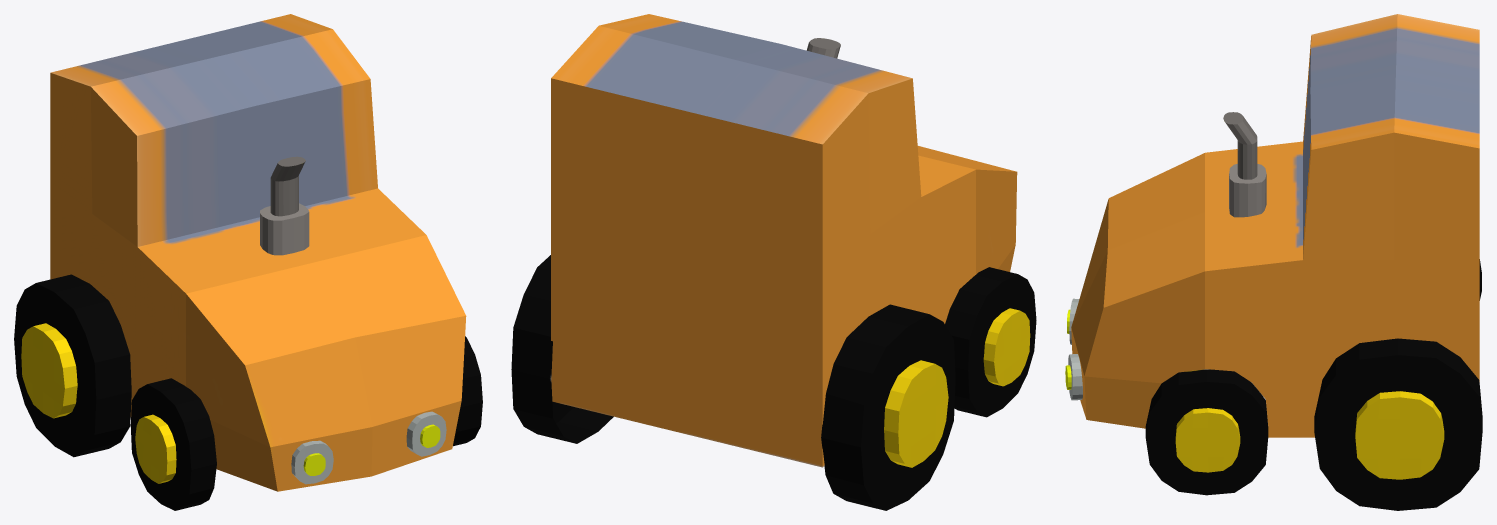
Rendered from final 3 tractor.fbx.
The picture shows the model from 3 angles, left to right: view 1: azimuth 30°, elevation 25°; view 2: azimuth 150°, elevation 25°; view 3: azimuth 270°, elevation 25°; orthographic projection. The views are drawn at different scales.
Parts seen in each view (by area): view 1: Cube; view 2: Cube; view 3: Cube.
Boxes of the visible parts, x1,y1,x2,y2 form: Cube: (14, 14, 482, 510); Cube: (511, 14, 1036, 510); Cube: (1065, 14, 1482, 510).
Size of the model in its own units: 279 by 284 by 297.
Materials: 1 (1 with a texture image).
